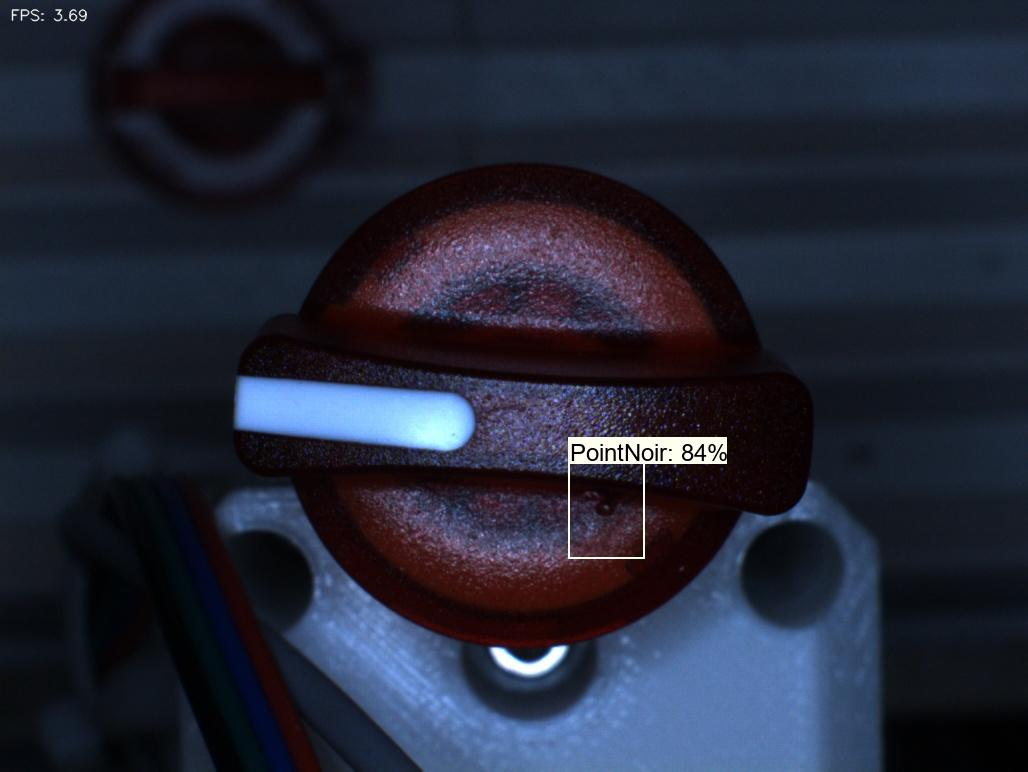Choc: (571, 479, 647, 557)
